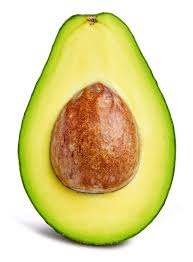avocado: (18, 13, 177, 247)
